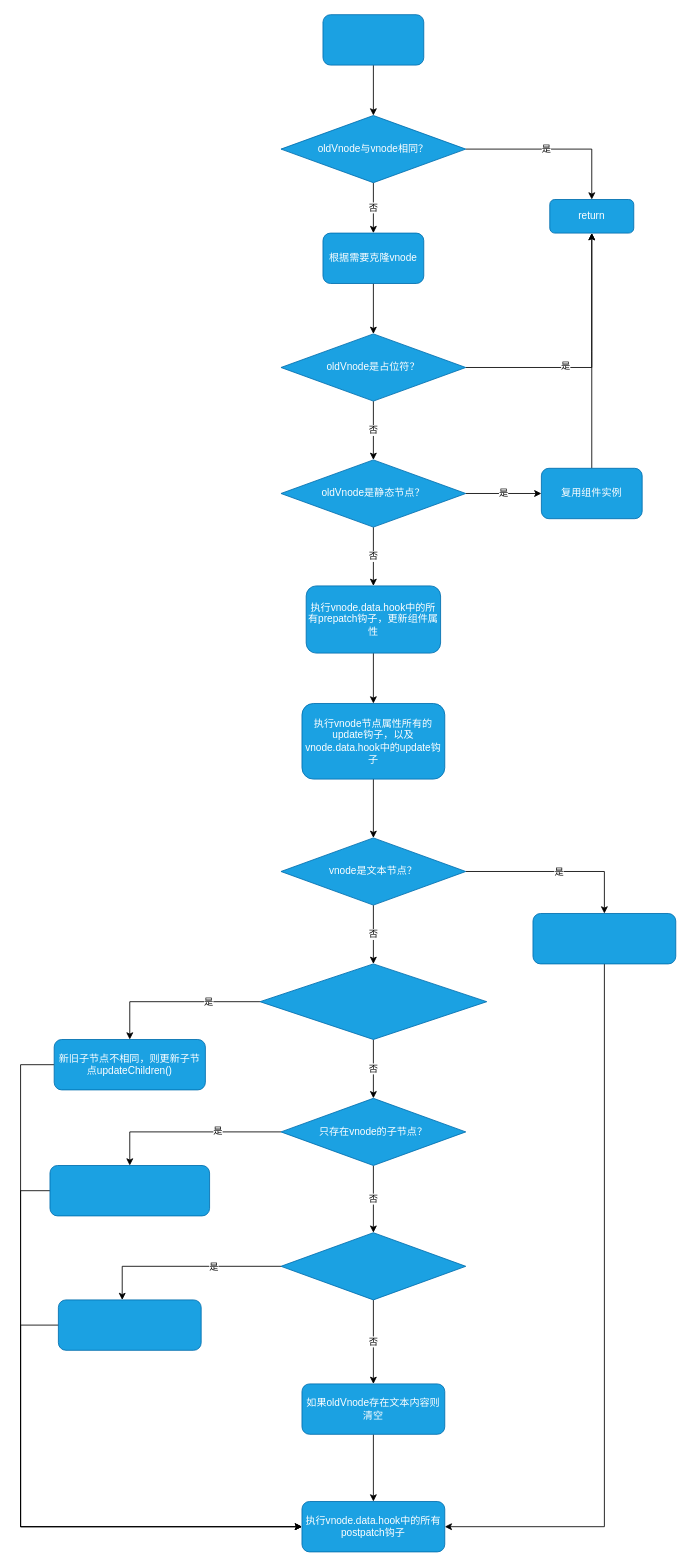
The diagram is 690 pixels wide and 1567 high, and some of its shapes have lost their labels. The shapes that lost their labels are listed below. From the top down, each one's box as (x1, y1, x2, y2) in pixels, then its label:
(322, 14, 424, 65): patchVnode()
(532, 913, 676, 964): 如果oldVnode与vnode的文本不同则更新文本内容
(259, 963, 487, 1040): oldVnode和vnode都存在子节点？
(49, 1165, 210, 1216): 清空oldVnode文本内容，并创建vnode的子节点到dom树中
(280, 1232, 466, 1300): 只存在oldVnode的子节点？
(58, 1299, 201, 1350): 从dom树种移除oldVnode子节点对应的dom
